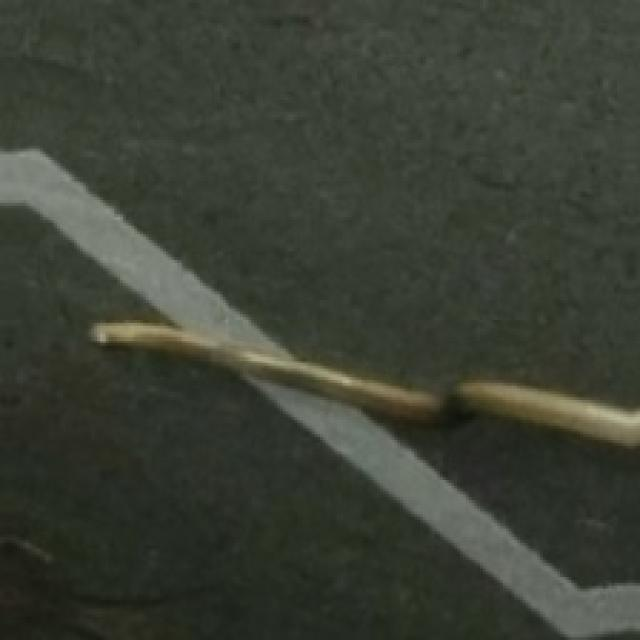king cobra: (91, 320, 637, 446)
